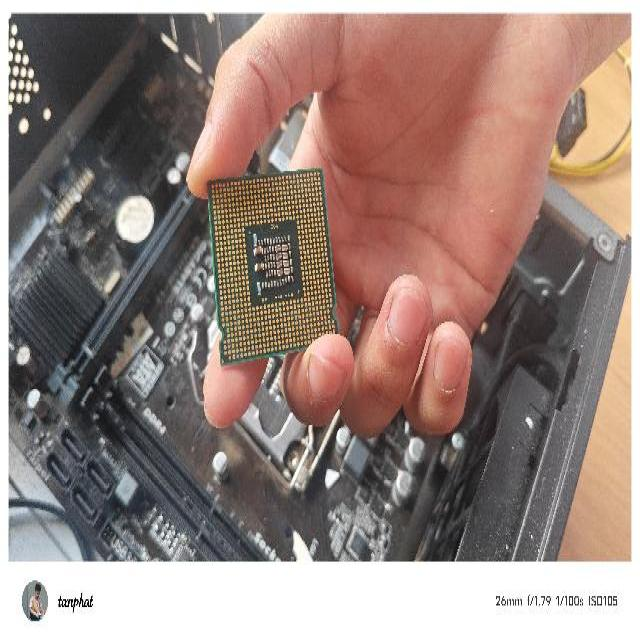CPU: (204, 164, 342, 368)
